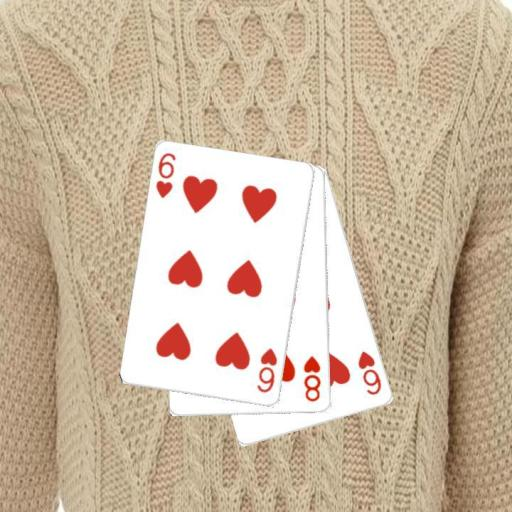6H: (355, 348, 383, 397), (152, 150, 178, 200), (254, 345, 279, 395)
8H: (301, 353, 323, 403)
